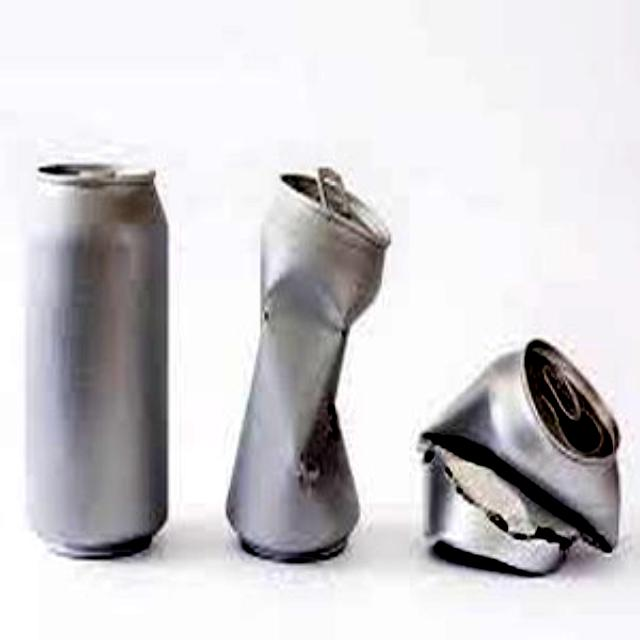Metal: (208, 167, 402, 571), (20, 156, 178, 564), (421, 342, 629, 572)
